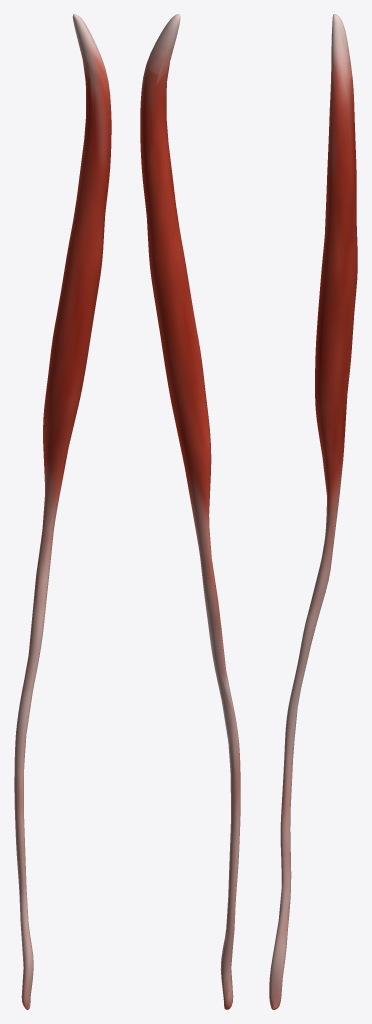
File: L Lateral Digital Extensor.fbx
The picture shows the model from 3 angles, left to right: view 1: azimuth 30°, elevation 25°; view 2: azimuth 210°, elevation 25°; view 3: azimuth 330°, elevation 25°; orthographic projection. The views are drawn at different scales.
Visible parts, largest first — view 1: L Lateral Digital Extensor, L Lateral Digital Extensor low; view 2: L Lateral Digital Extensor, L Lateral Digital Extensor low; view 3: L Lateral Digital Extensor, L Lateral Digital Extensor low.
Part boxes in pixels (bbox=[...]): L Lateral Digital Extensor: bbox=[14, 14, 111, 1009]; L Lateral Digital Extensor low: bbox=[16, 20, 108, 1008]; L Lateral Digital Extensor: bbox=[140, 14, 240, 1009]; L Lateral Digital Extensor low: bbox=[142, 20, 239, 1005]; L Lateral Digital Extensor: bbox=[269, 14, 357, 1009]; L Lateral Digital Extensor low: bbox=[270, 20, 357, 1008].
Bounding box in the file's own units: 6.85 × 76.3 × 4.51.
